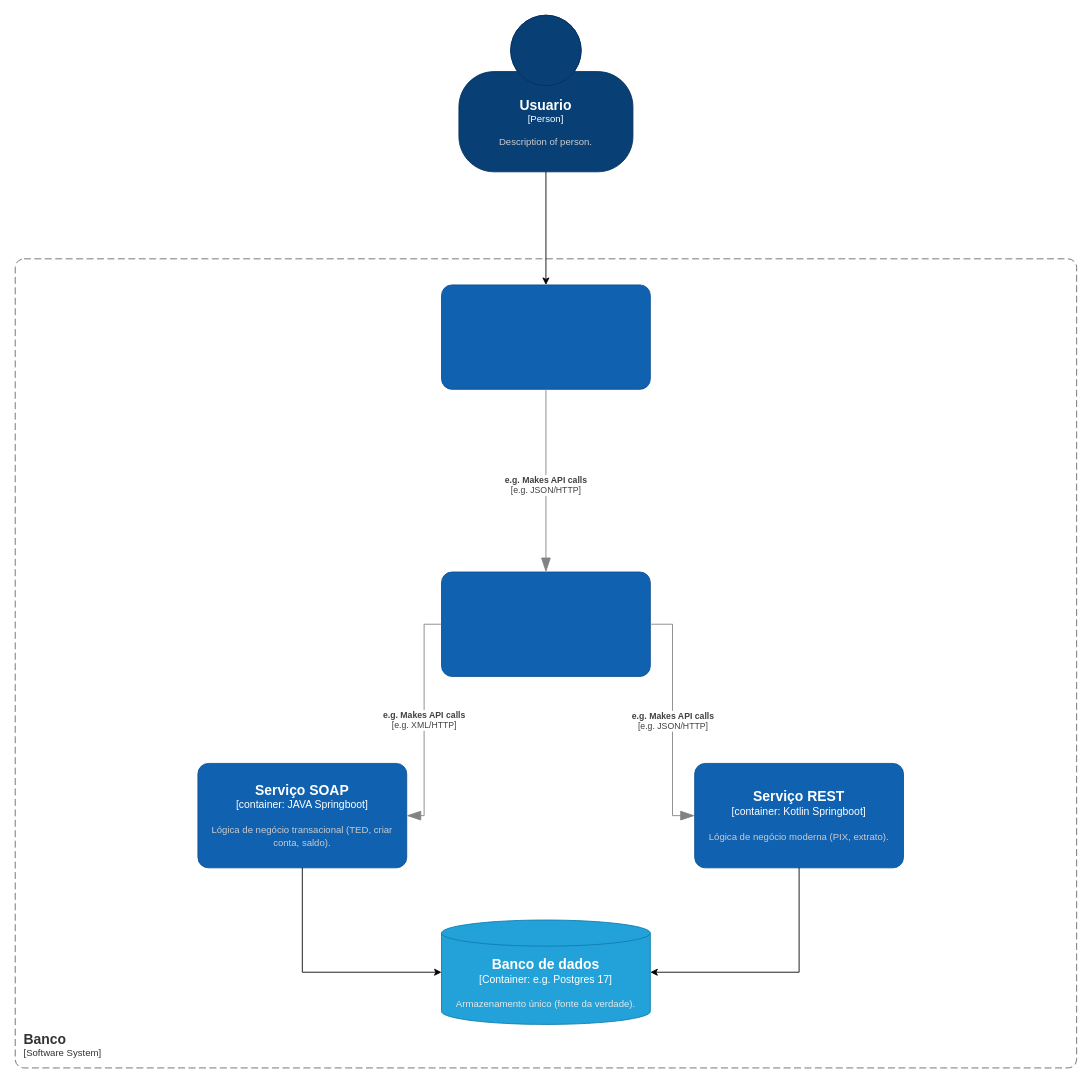
This 1092x1083 diagram has some shape labels left out. The centre of each missing label's shape, as x and y in pixels:
"API Gateway [container: Nest.JS] Ponto de entrada único, roteia tráfego." goes at pixel 545 623.
"Cliente web [Container: python] Tarefas administrativas" goes at pixel 545 336.
